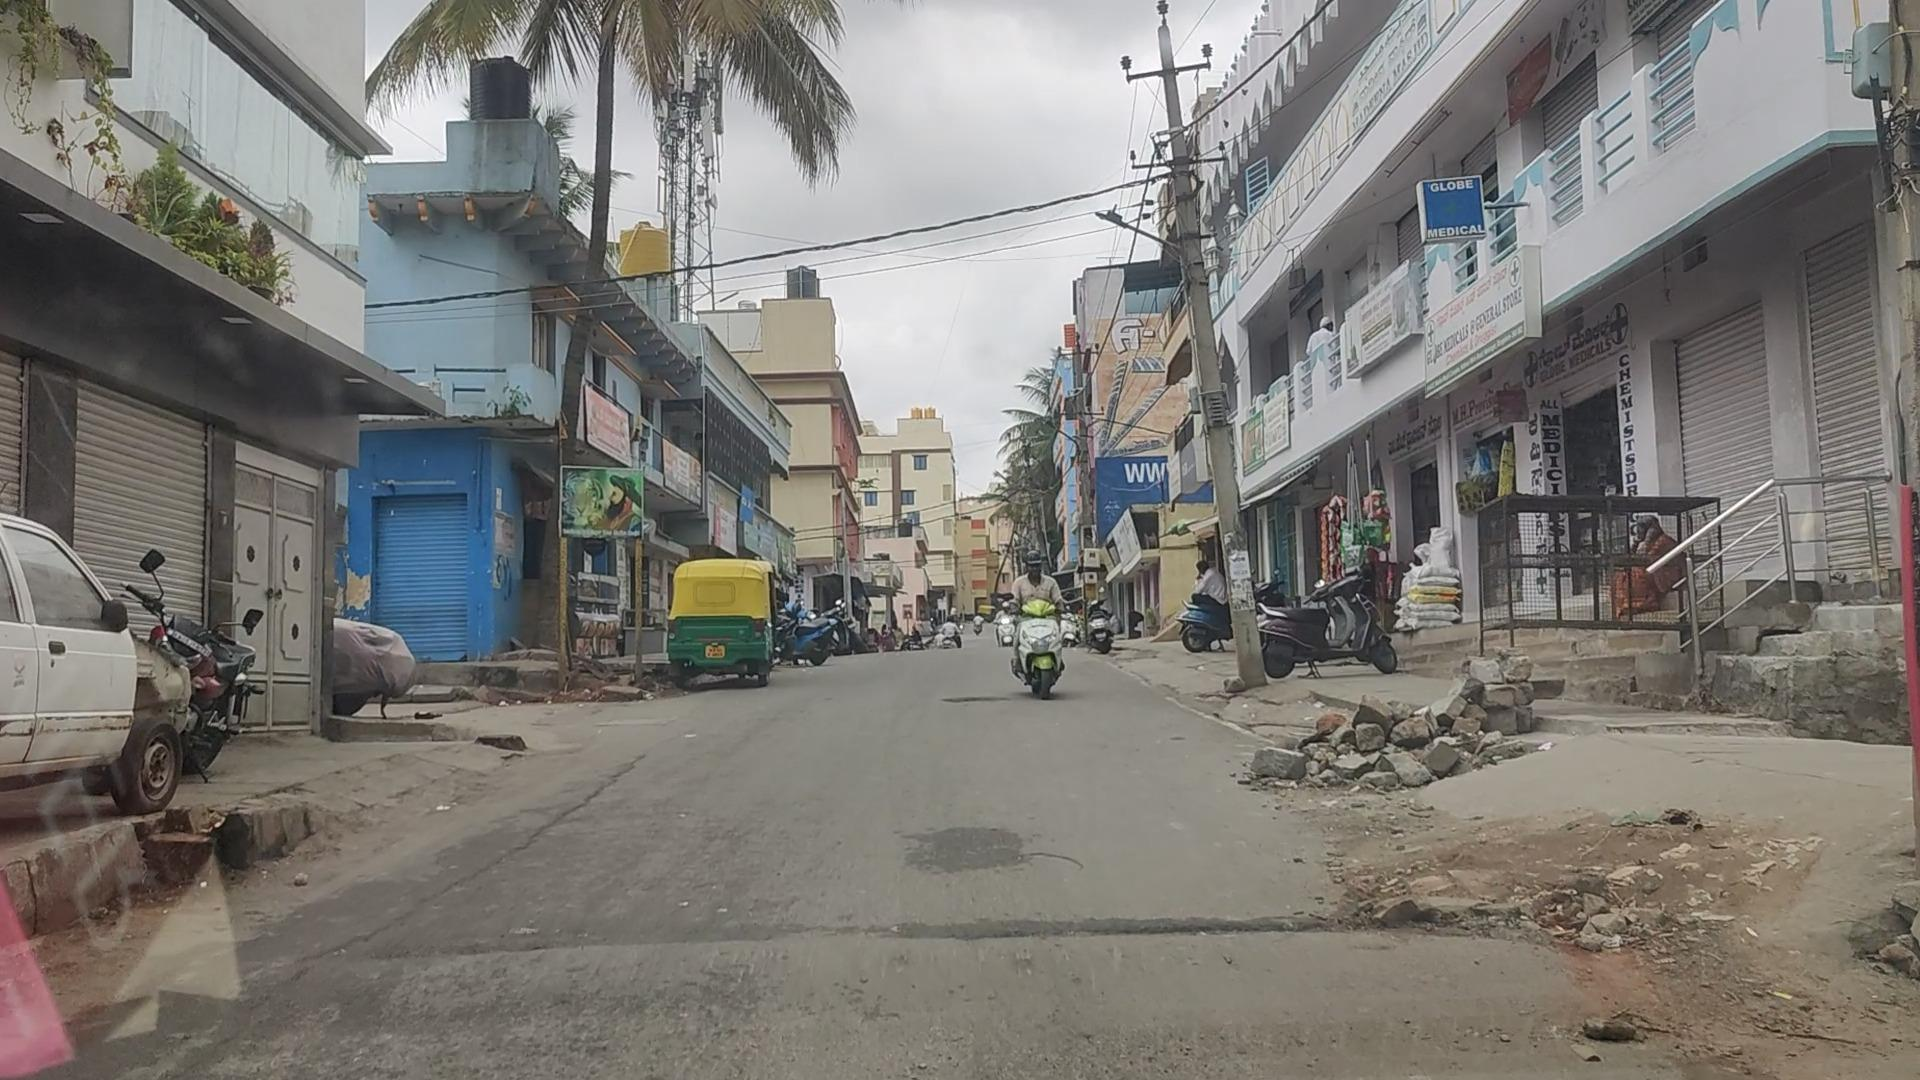LMV: (1005, 553, 1077, 713)
RoadDamages: (982, 837, 1101, 903)
SpeedBump: (243, 916, 1536, 1052)
